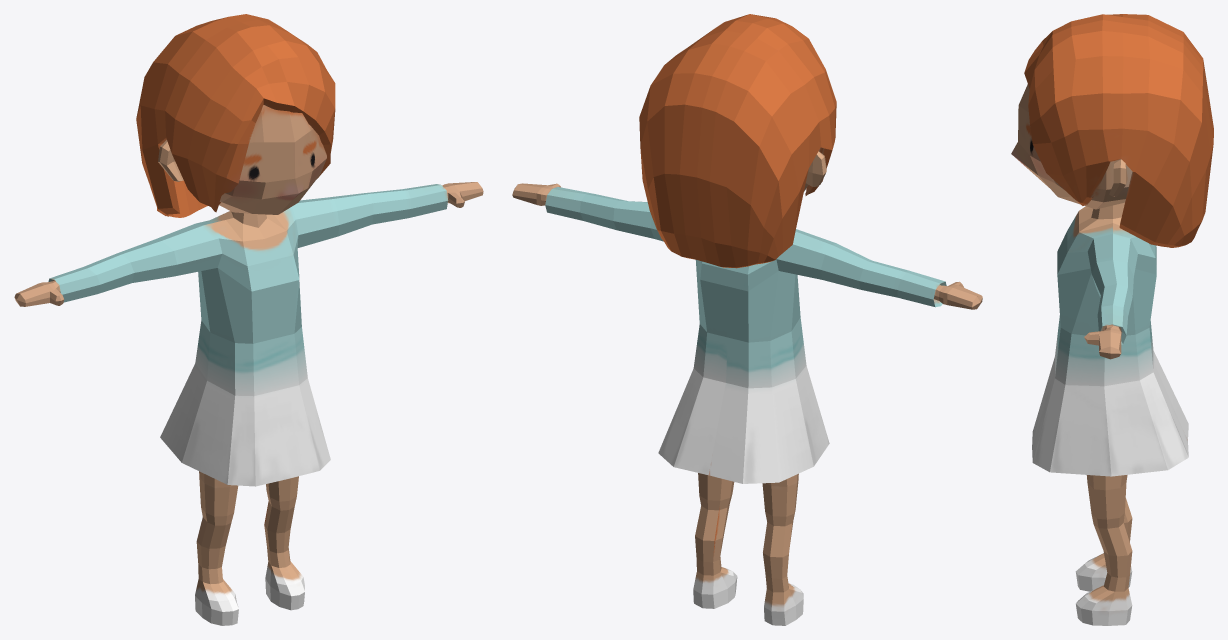
File: younger sis model and texture.fbx
The picture shows the model from 3 angles, left to right: view 1: azimuth 30°, elevation 25°; view 2: azimuth 150°, elevation 25°; view 3: azimuth 270°, elevation 25°; orthographic projection.
Visible parts, largest first — view 1: Group3, Group2, Group5; view 2: Group3, Group2; view 3: Group3, Group2, Group5, Group4.
Boxes of the visible parts, <box> form: Group3: <box>14,182,483,625</box>; Group2: <box>136,14,335,217</box>; Group5: <box>219,105,326,214</box>; Group3: <box>512,183,982,625</box>; Group2: <box>639,14,836,268</box>; Group3: <box>1032,202,1188,625</box>; Group2: <box>1024,14,1213,247</box>; Group5: <box>1011,84,1132,209</box>; Group4: <box>1109,159,1127,196</box>.
Size of the model in its own units: 7.69 by 9.21 by 2.91.
